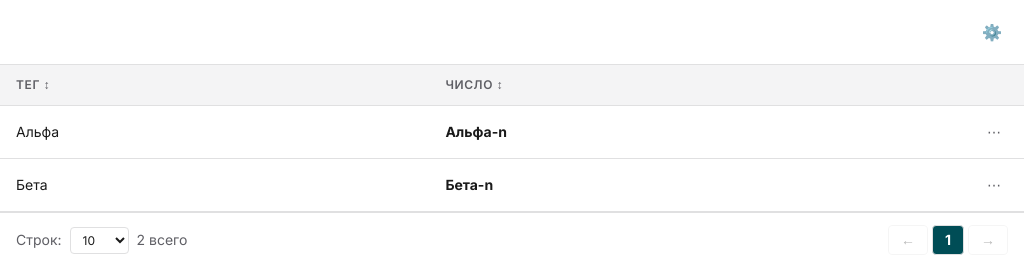
Scenario: DataTable column visibility › renders the column picker and toggling hides the column + persists
# Open picker and uncheck "Число"
Click the button named "Настроить колонки". click: (992, 32)
box: [976, 16, 1008, 48]
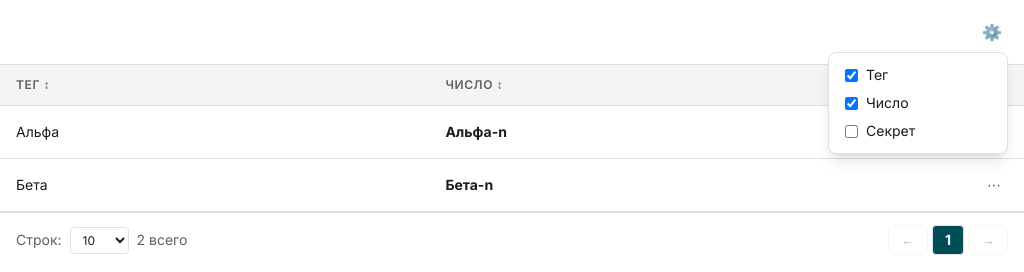
Click the text "Число". click: (887, 103)
box: [866, 93, 908, 113]
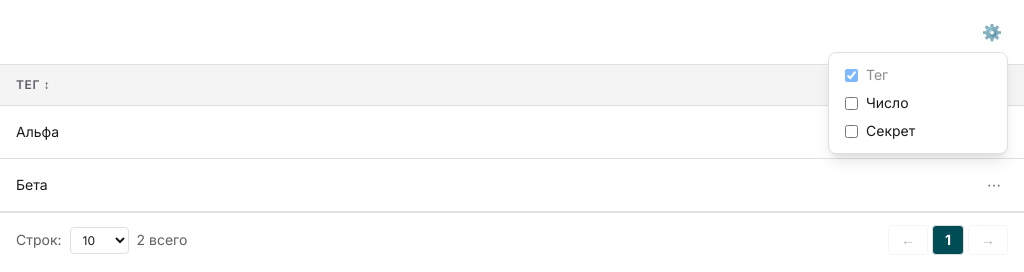
Now the text with test id "count-cell-t-1" is gone
